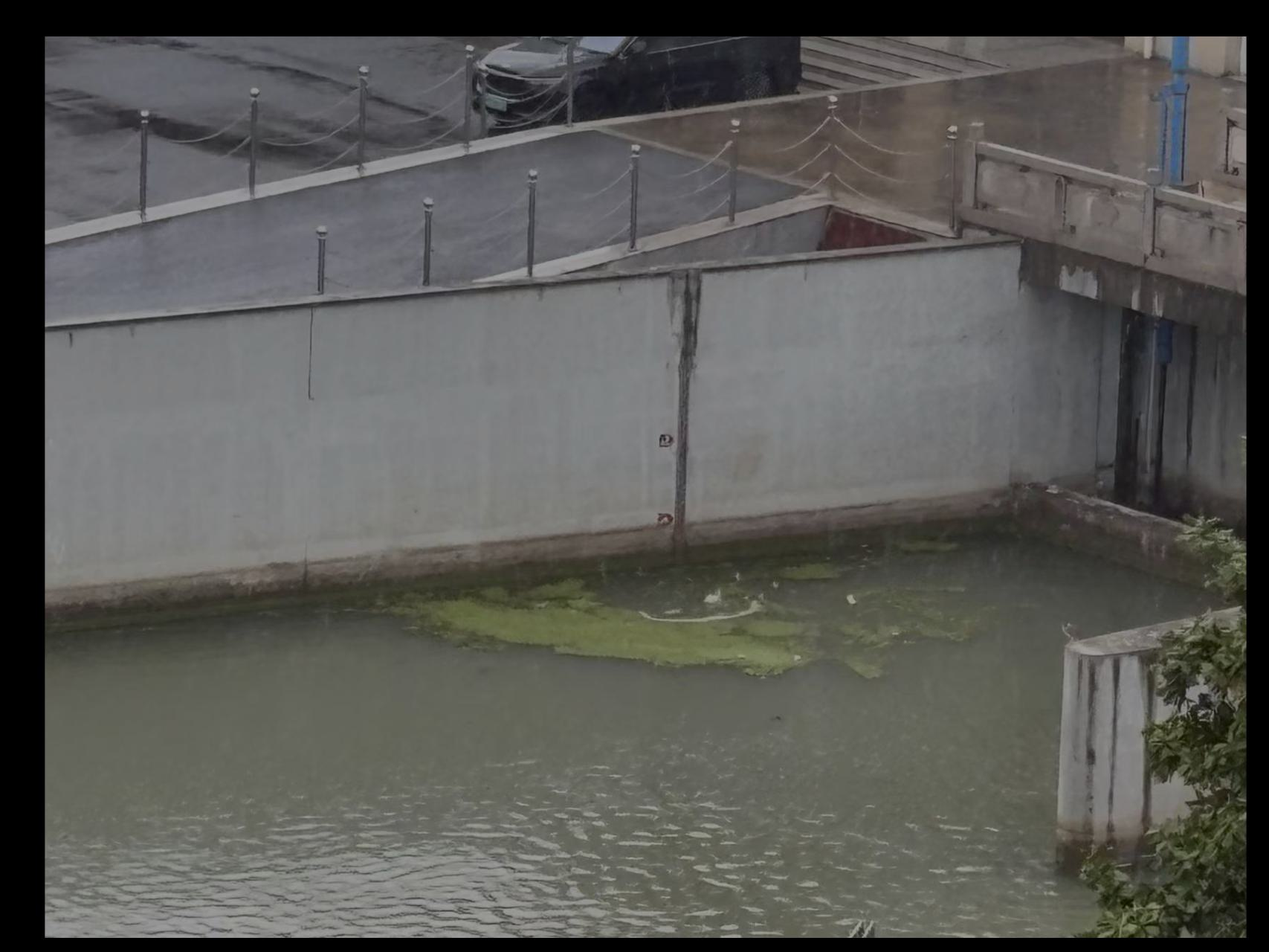Other: (549, 608, 639, 656), (639, 622, 734, 666), (459, 610, 543, 641), (734, 642, 808, 675), (764, 555, 852, 579), (836, 623, 905, 646), (744, 620, 810, 637), (894, 538, 957, 553)
Plastic wastes: (703, 588, 726, 604), (844, 593, 857, 606)
